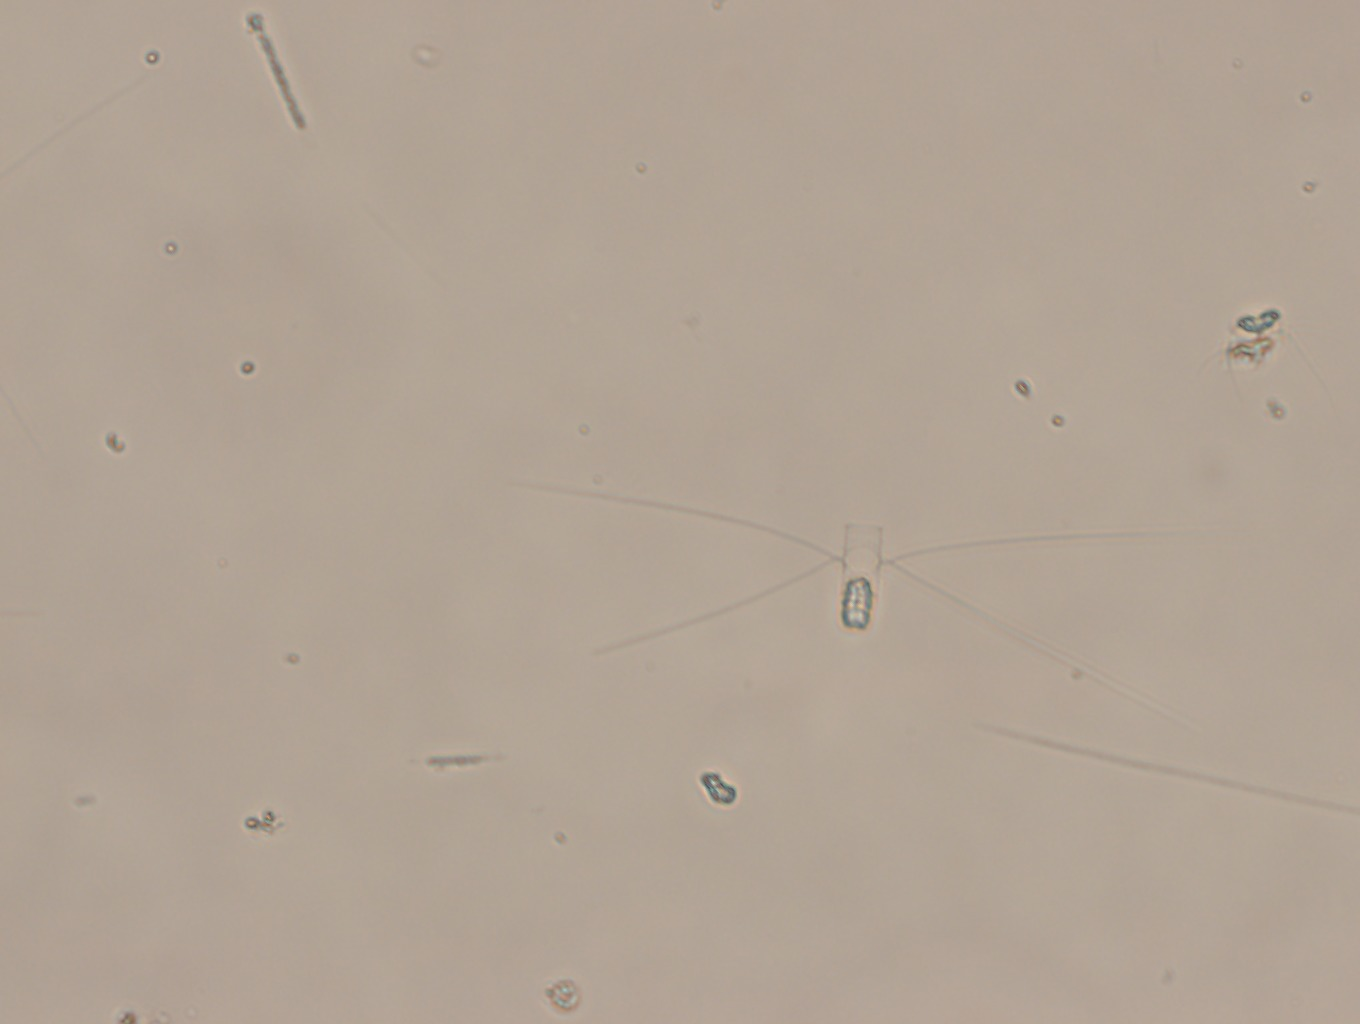chaetoceros: (536, 486, 1201, 705)
